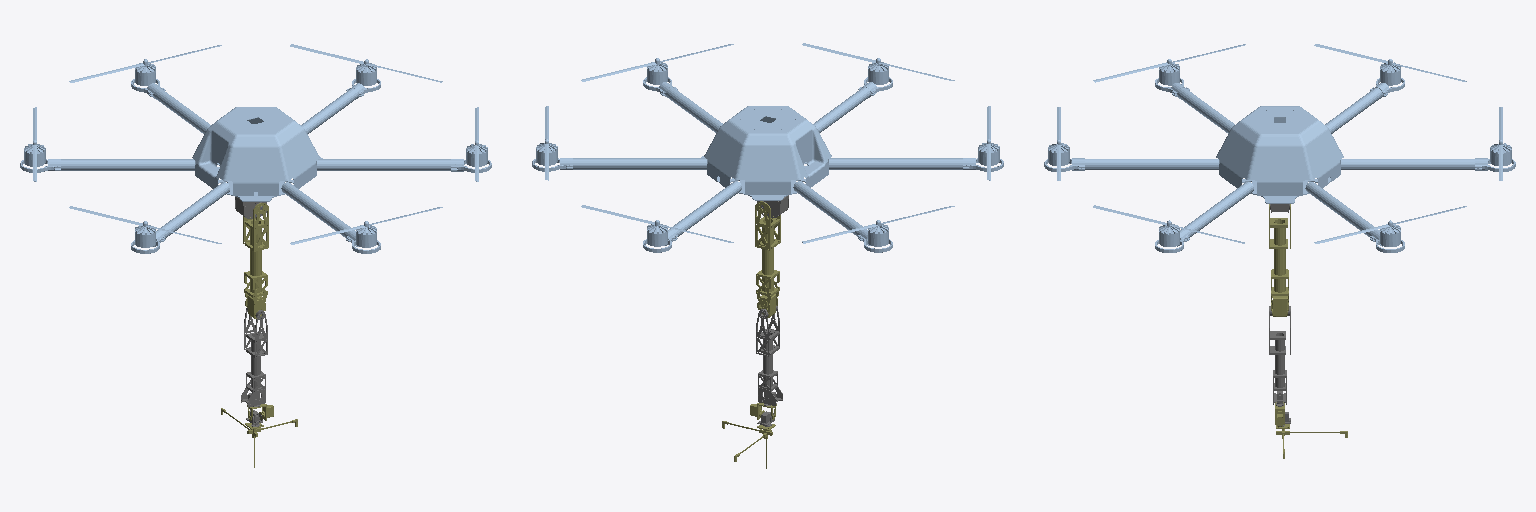
URDF robot description (uam_urdf):
<?xml version="1.0" encoding="utf-8"?>
<!-- This URDF was automatically created by SolidWorks to URDF Exporter! Originally created by [author] ([email redacted]) 
     Commit Version: 1.5.0-0-g9aa0fdb  Build Version: 1.5.7004.21443
     For more information, please see http://wiki.ros.org/sw_urdf_exporter -->
<robot name="uam_urdf">
 <link
    name="uav_link">
    <visual>
      <origin
        xyz="0 0 0"
        rpy="0 0 1.5708" />
      <geometry>
        <mesh
          filename="package://robot_urdf/meshes/uav800_small.STL" />
      </geometry>
      <material
        name="">
        <color
          rgba="0.7 0.8 0.9 1" />
      </material>
    </visual>
    <collision>
      <origin
        xyz="0 0 0"
        rpy="0 0 0" />
      <geometry>
        <mesh
          filename="package://robot_urdf/meshes/uav800_small.STL" />
      </geometry>
    </collision>
  </link>

  <joint    name="fixed_joint_uav"    type="fixed">
    <parent      link="uav_link" />
    <child      link="base_link" />
    <origin      xyz="0 0 -0.06"      rpy="3.1416 0 0" />
  </joint>

  <link name="base_link">
    <visual>
      <origin xyz="0 0 0" rpy="0 0 0" />
      <geometry>
        <mesh filename="package://robot_urdf/meshes/base_link.STL" />
      </geometry>
      <material name="">
        <color rgba="0.6 0.6 0.4 1" />
      </material>
    </visual>
    <collision>
      <origin xyz="0 0 0" rpy="0 0 0" />
      <geometry>
        <mesh filename="package://robot_urdf/meshes/base_link.STL" />
      </geometry>
    </collision>
  </link>

  <joint name="revolute_joint_0" type="revolute"> 
    <parent link="base_link"/> 
    <child link="link1"/> 
    <axis xyz="0 0 -1"/>  
    <origin xyz="0 0 0.0411" rpy="0 0 0"/> 
    <limit effort ="1000.0" lower="-2.618" upper="2.618" velocity="0.5"/>  
  </joint>

  <link name="link1">
    <visual>
      <origin xyz="0 0 0" rpy="0 0 0" />
      <geometry>
        <mesh filename="package://robot_urdf/meshes/link1.STL" />
      </geometry>
      <material name="">
        <color rgba="0.5 0.5 0.5 1" />
      </material>
    </visual>
    <collision>
      <origin xyz="0 0 0" rpy="0 0 0" />
      <geometry>
        <mesh filename="package://robot_urdf/meshes/link1.STL" />
      </geometry>
    </collision>
  </link>

  <joint name="revolute_joint_1" type="revolute"> 
    <parent link="link1"/> 
    <child link="link2"/> 
    <axis xyz="0 0 1"/>  
    <origin xyz="0 0 0.0331" rpy="1.5708 -1.5708 3.1416"/> 
    <limit effort ="1000.0" lower="-1.5707963" upper="1.5707963" velocity="0.5"/>  
  </joint>

  <link name="link2">
    <visual>
      <origin xyz="0 0 0" rpy="0 0 0" />
      <geometry>
        <mesh filename="package://robot_urdf/meshes/link2.STL" />
      </geometry>
      <material name="">
        <color rgba="0.6 0.6 0.4 1" />
      </material>
    </visual>
    <collision>
      <origin xyz="0 0 0" rpy="0 0 0" />
      <geometry>
        <mesh filename="package://robot_urdf/meshes/link2.STL" />
      </geometry>
    </collision>
  </link>

  <joint name="revolute_joint_2" type="revolute"> 
    <parent link="link2"/> 
    <child link="link3"/> 
    <axis xyz="0 0 -1"/>  
    <origin xyz="0.25 0 0" rpy="0 0 -1.5708"/> 
    <limit effort ="1000.0" lower="-2.618" upper="2.618" velocity="0.5"/>  
  </joint>
  
  <link name="link3">
    <visual>
      <origin xyz="0 0 0" rpy="0 0 0" />
      <geometry>
        <mesh filename="package://robot_urdf/meshes/link3.STL" />
      </geometry>
      <material name="">
        <color rgba="0.5 0.5 0.5 1" />
      </material>
    </visual>
    <collision>
      <origin xyz="0 0 0" rpy="0 0 0" />
      <geometry>
        <mesh filename="package://robot_urdf/meshes/link3.STL" />
      </geometry>
    </collision>
  </link>
  
  <joint name="revolute_joint_3" type="revolute"> 
    <parent link="link3"/> 
    <child link="link4"/> 
    <axis xyz="0 0 1"/>  
    <origin xyz="0 0.2194 0" rpy="-1.5708 -1.5708 0"/> 
    <limit effort ="1000.0" lower="-6.28" upper="6.28" velocity="0.5"/>  
  </joint>

  <link name="link4">
    <visual>
      <origin xyz="0 0 0" rpy="0 0 0" />
      <geometry>
        <mesh filename="package://robot_urdf/meshes/link4.STL" />
      </geometry>
      <material name="">
        <color rgba="0.6 0.6 0.4 1" />
      </material>
    </visual>
    <collision>
      <origin xyz="0 0 0" rpy="0 0 0" />
      <geometry>
        <mesh filename="package://robot_urdf/meshes/link4.STL" />
      </geometry>
    </collision>
  </link>

  <joint name="revolute_joint_4" type="revolute"> 
    <parent link="link4"/> 
    <child link="link5"/> 
    <axis xyz="0 0 1"/>  
    <origin xyz="0 0 0.026516" rpy="1.5708 -1.5708 0"/> 
    <limit effort ="1000.0" lower="-2.618" upper="2.618" velocity="0.5"/>  
  </joint>

  <link name="link5">
    <visual>
      <origin xyz="0 0 0" rpy="0 0 0" />
      <geometry>
        <mesh filename="package://robot_urdf/meshes/link5.STL" />
      </geometry>
      <material name="">
        <color rgba="0.5 0.5 0.5 1" />
      </material>
    </visual>
    <collision>
      <origin xyz="0 0 0" rpy="0 0 0" />
      <geometry>
        <mesh filename="package://robot_urdf/meshes/link5.STL" />
      </geometry>
    </collision>
  </link>

  <joint name="revolute_joint_5" type="revolute"> 
    <parent link="link5"/> 
    <child link="link6"/> 
    <axis xyz="0 0 1"/>  
    <origin xyz="0.02085 0.0067632 0" rpy="1.5708 0 1.5708"/> 
    <limit effort ="1000.0" lower="-6.28" upper="6.28" velocity="0.5"/>  
  </joint>

  <link name="link6">
    <visual>
      <origin xyz="0 0 0" rpy="0 0 0" />
      <geometry>
        <mesh filename="package://robot_urdf/meshes/end_link.STL" />
      </geometry>
      <material name="">
        <color rgba="0.6 0.6 0.4 1" />
      </material>
    </visual>
    <collision>
      <origin xyz="0 0 0" rpy="0 0 0" />
      <geometry>
        <mesh filename="package://robot_urdf/meshes/end_link.STL" />
      </geometry>
    </collision>
  </link>

  <joint name="fixed_joint_0" type="fixed"> 
  <parent link="link6"/> 
  <child link="end_link"/> 
  <origin xyz="0 0 0.03" rpy="3.1416 -1.5708 0"/> 
  </joint>

  <link name="end_link">
  </link>

</robot>
  

--- Facts derived from the render (not from the file) ---
Views: 3 orthographic renders of the robot side by side, from view 1: azimuth 30°, elevation 25°; view 2: azimuth 150°, elevation 25°; view 3: azimuth 270°, elevation 25°.
Model uam_urdf with 9 links and 8 joints (6 revolute, 2 fixed), rooted at uav_link, posed all joints at 0.
Links seen in each view (by area): view 1: uav_link, link2, link3; view 2: uav_link, link2, link3; view 3: uav_link, link2, link3.
Boxes of the visible links, box(x1,y1,x2,y2) form: uav_link: box(20, 44, 491, 253); link2: box(243, 203, 268, 318); link3: box(241, 308, 267, 407); uav_link: box(532, 43, 1003, 252); link2: box(755, 201, 780, 317); link3: box(756, 306, 782, 405); uav_link: box(1044, 44, 1515, 252); link2: box(1269, 204, 1290, 316); link3: box(1269, 306, 1290, 406).
Bounding box of the posed robot: 1 × 0.9962 × 0.812 m (x, y, z).
Meshes: 8 distinct files referenced, 8 mesh visuals loaded (8 binary STL).